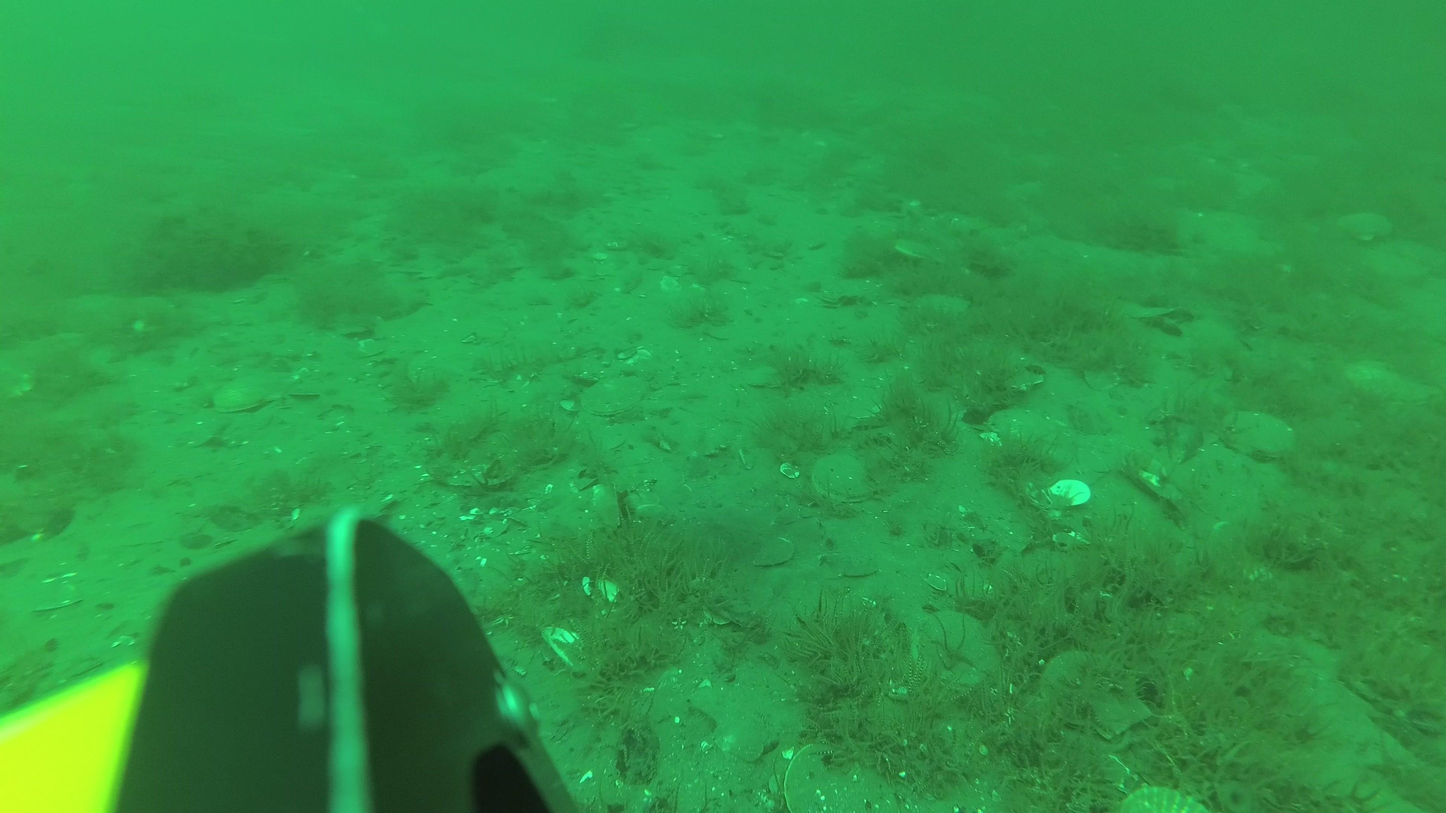scallop: (1039, 647, 1155, 738), (779, 738, 909, 813), (955, 336, 1048, 397), (1221, 403, 1302, 458), (807, 452, 886, 504), (985, 406, 1068, 449), (577, 373, 654, 416), (1117, 780, 1216, 813), (203, 379, 288, 417), (1331, 204, 1397, 245), (740, 358, 808, 390)
